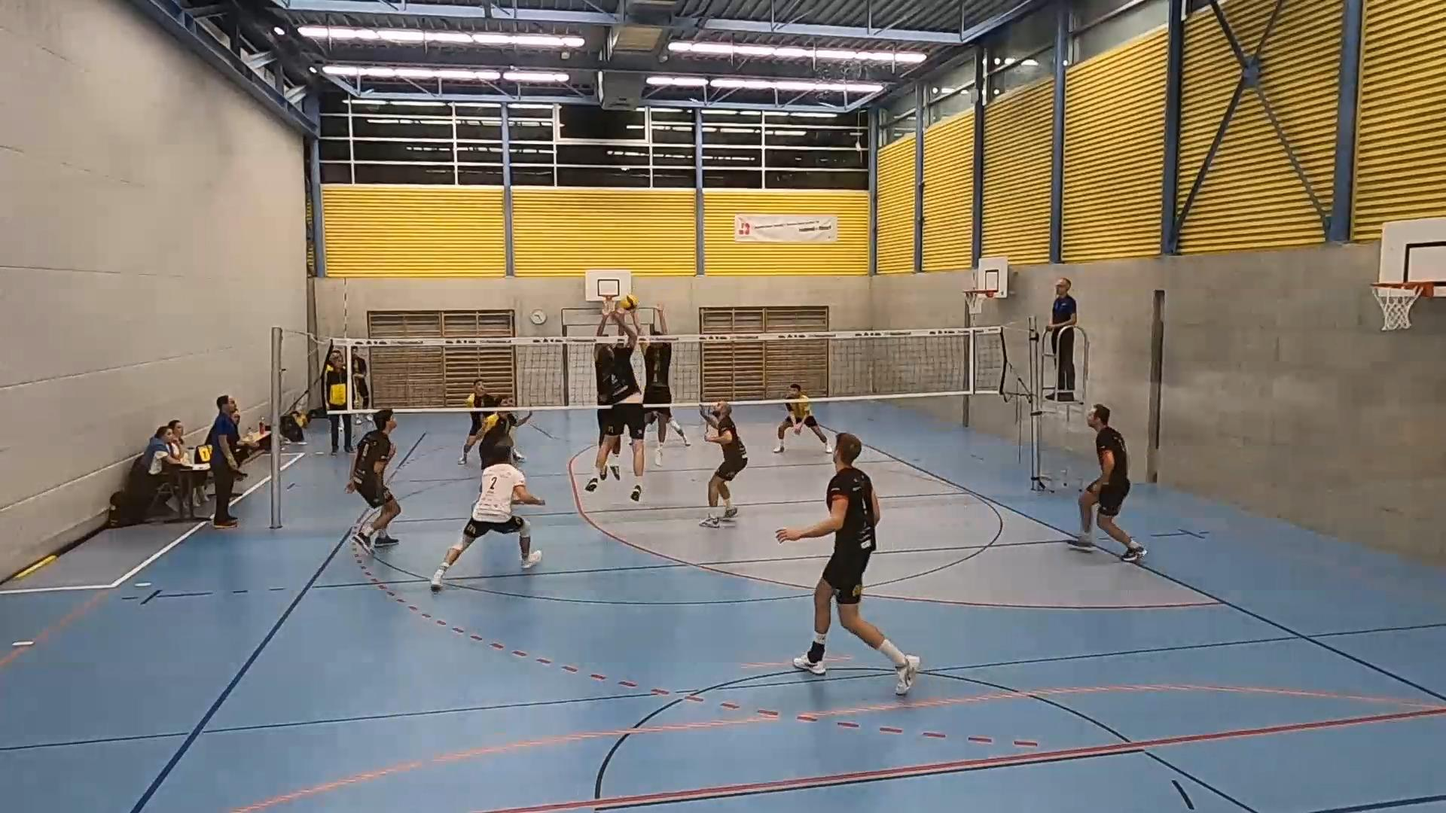attacco: (578, 312, 649, 511)
muro: (634, 304, 680, 476)
